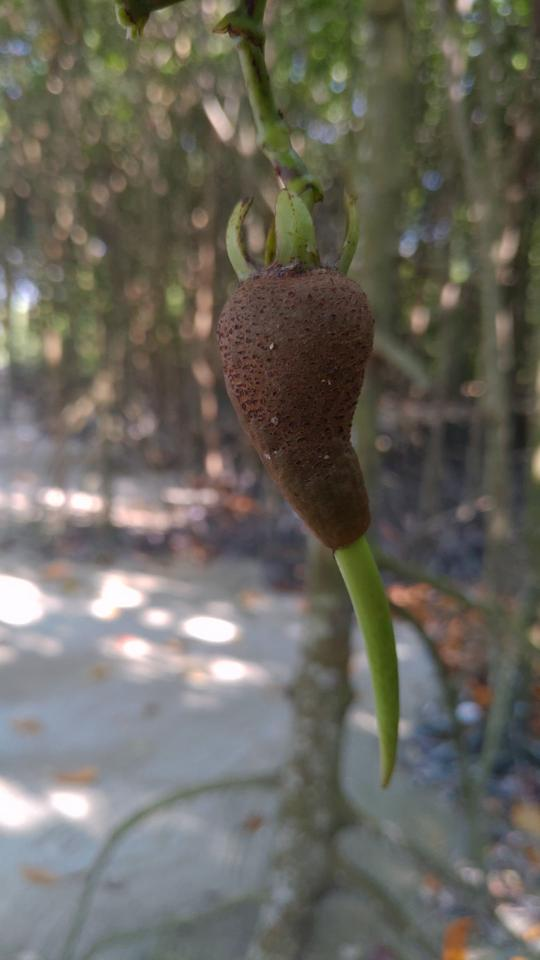mentah: (205, 156, 427, 812)
